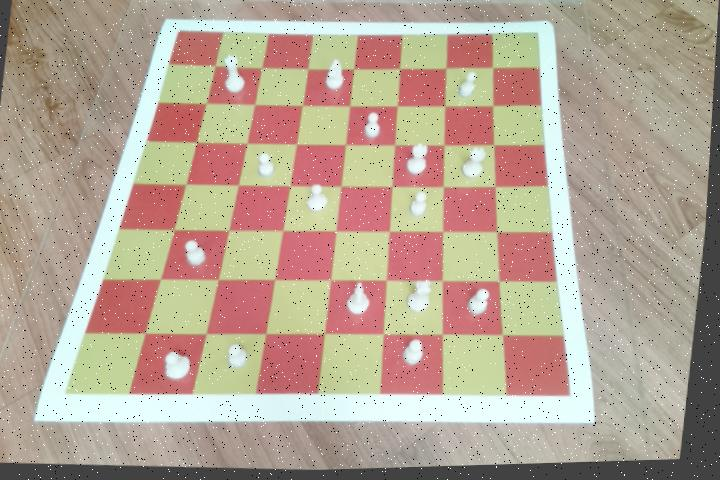chessboard-detect: (67, 30, 577, 400)
